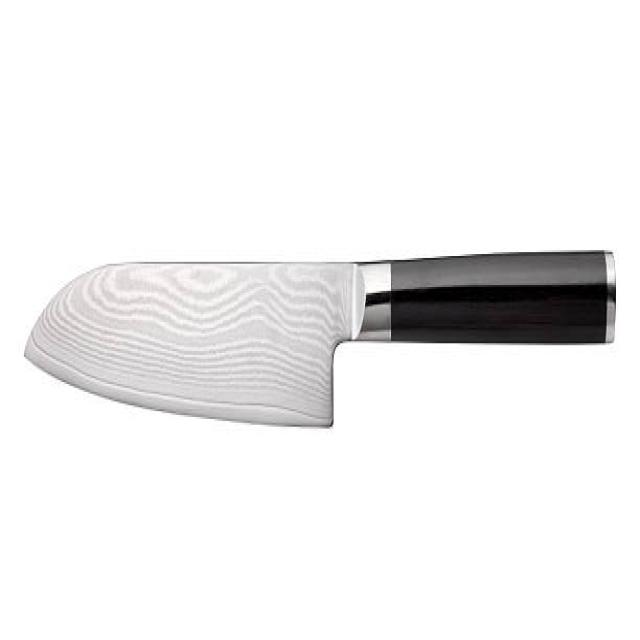knife: (25, 222, 620, 435)
